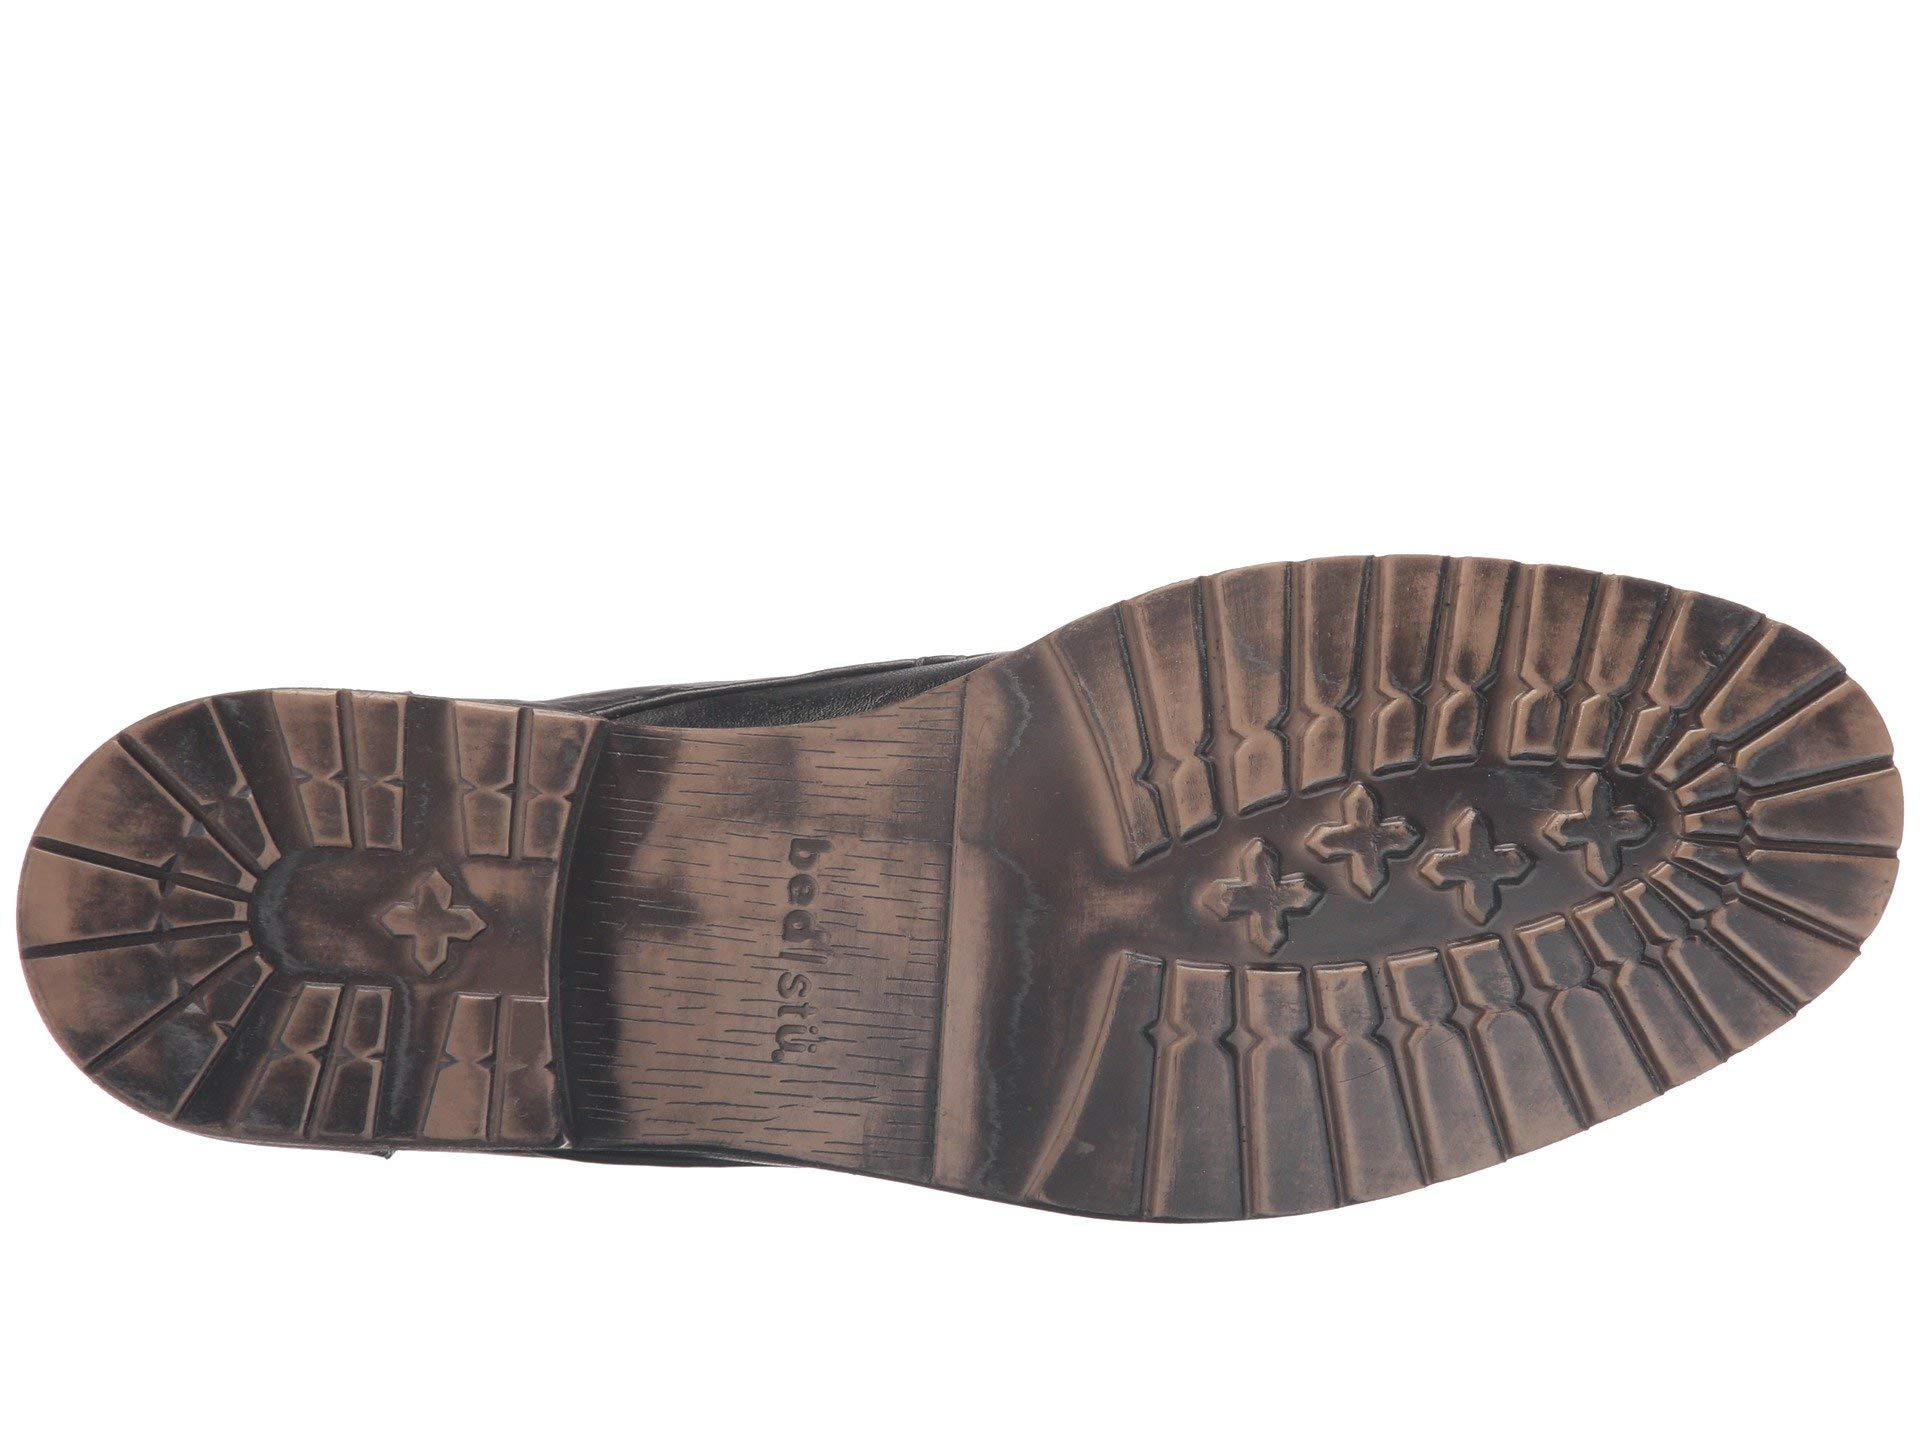bowtie: (1131, 954, 1435, 1227), (411, 982, 559, 1147), (302, 690, 426, 849)
exclude: (523, 649, 1008, 1203)
star: (1215, 785, 1702, 961), (373, 855, 485, 989)
